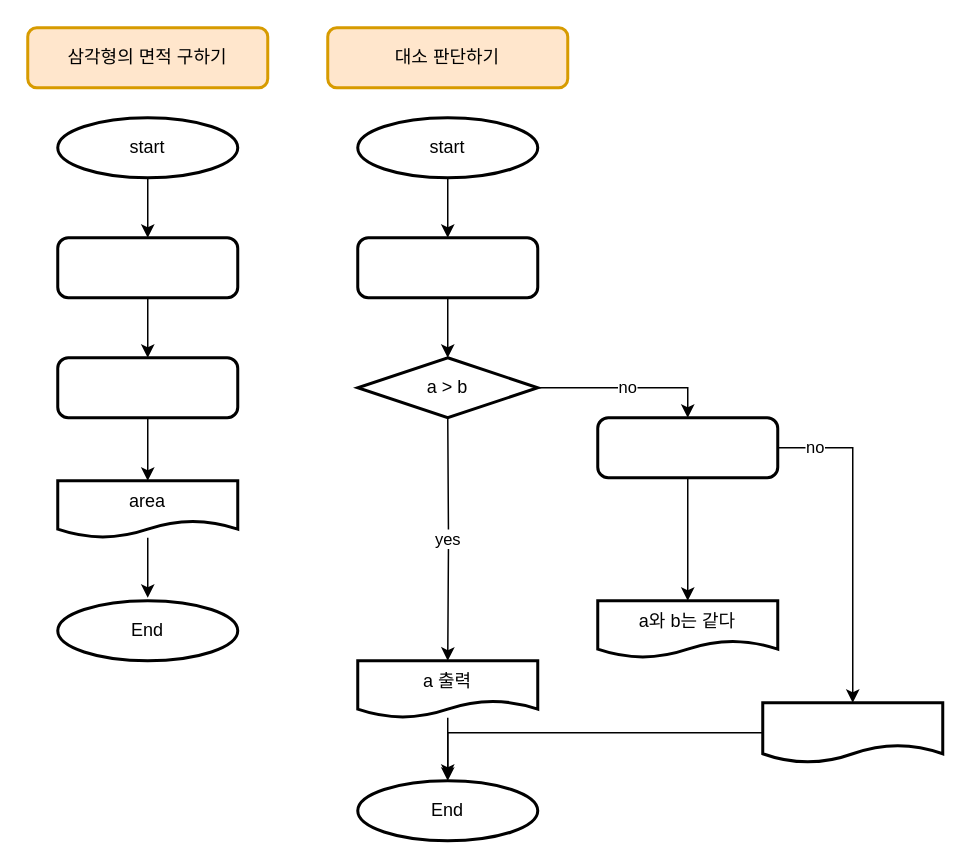
Image size: 969x867. Some labels were removed from this diagram. The centre of each missing label's shape, as x and y in pixels:
"a = b" belongs at pixel 687 447.
"a, b 입력" belongs at pixel 447 267.
"area = base * height / 2" belongs at pixel 147 387.
"b 출력" belongs at pixel 852 732.
"base, height 입력" belongs at pixel 147 267.
